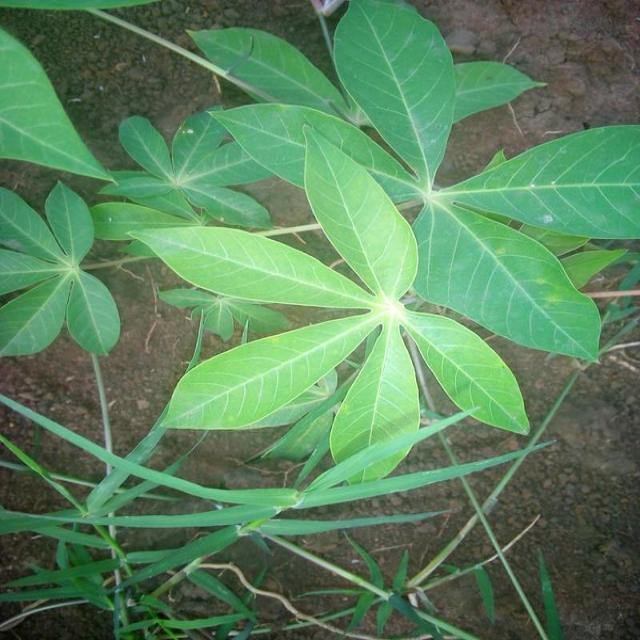cassava leaf: (411, 193, 604, 364), (332, 0, 458, 190), (2, 180, 122, 358), (302, 123, 420, 302), (2, 26, 118, 184)
